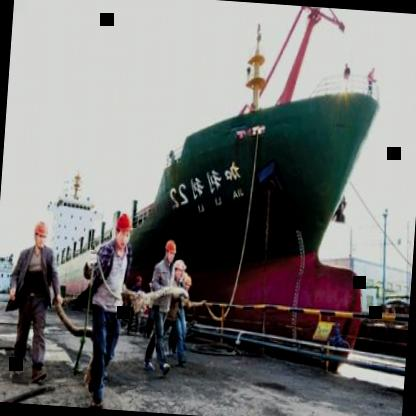helmet: (110, 208, 134, 253), (32, 220, 50, 251), (164, 238, 178, 268)
